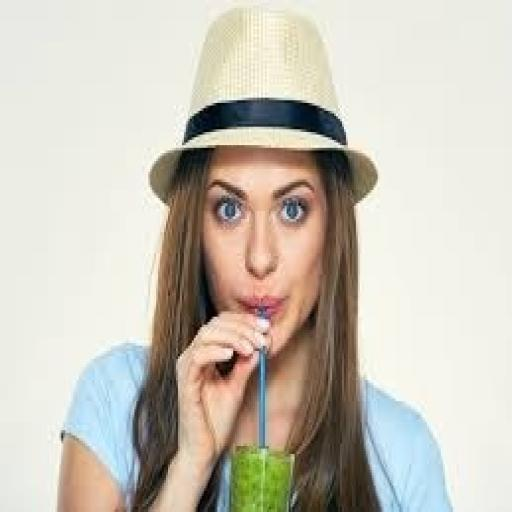drinking: (140, 53, 498, 512)
